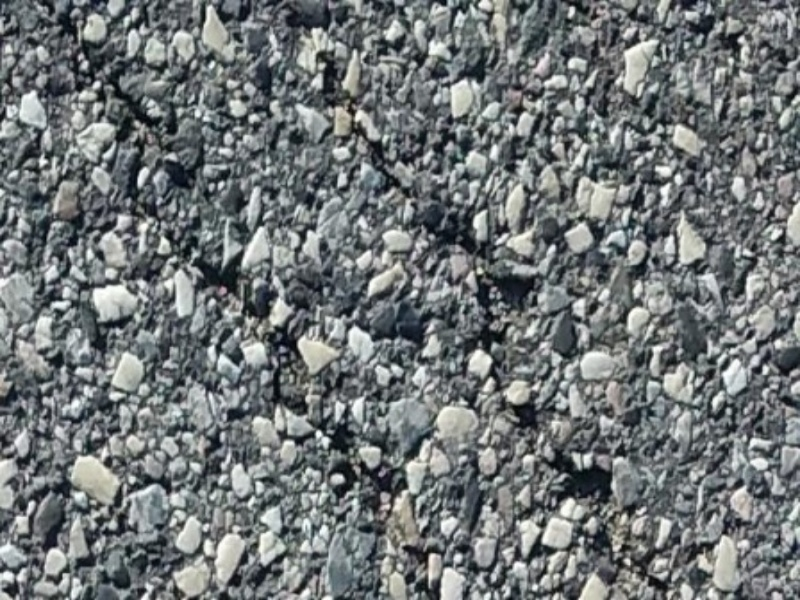crack: (46, 18, 439, 585), (301, 14, 694, 577)
